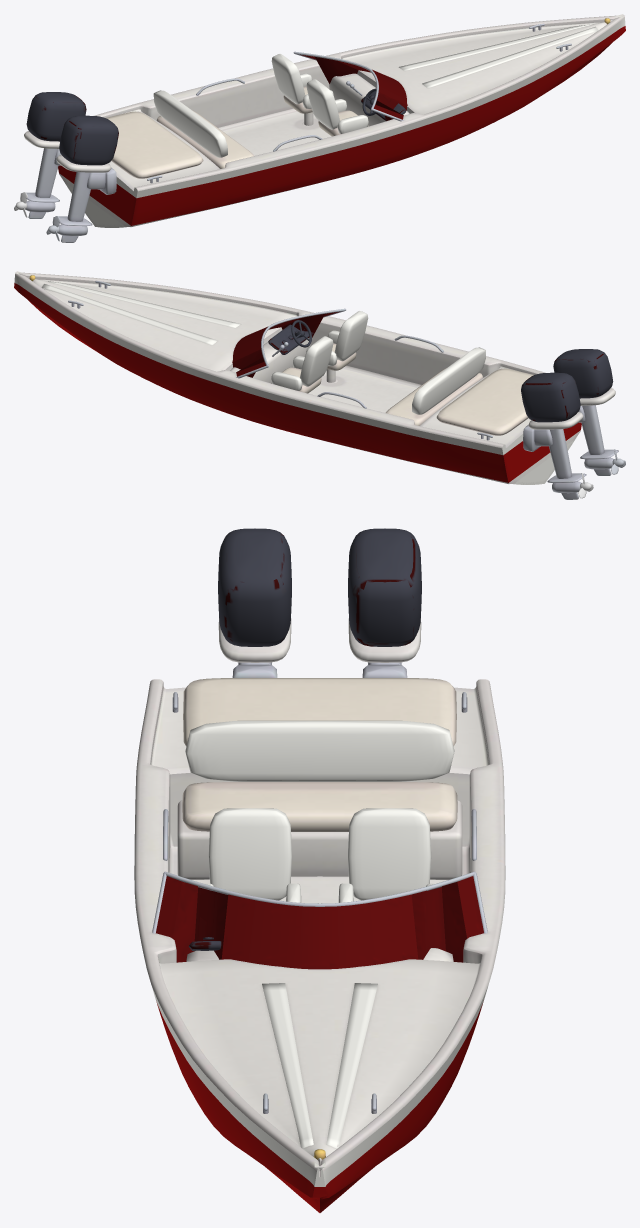
Rendered from lancha-triton-240-open-sport-2014.glb.
3 views of the same model, one above another, from view 1: azimuth 30°, elevation 25°; view 2: azimuth 150°, elevation 25°; view 3: azimuth 270°, elevation 25° (orthographic). The views are drawn at different scales.
Parts seen in each view (by area): view 1: speedboat_body; view 2: speedboat_body; view 3: speedboat_body.
Boxes of the visible parts, x1=… form: speedboat_body: x1=21, y1=14, x2=625, y2=242; speedboat_body: x1=14, y1=271, x2=618, y2=499; speedboat_body: x1=134, y1=528, x2=505, y2=1212.
Bounding box in the file's own units: 7.32 × 1.53 × 1.99.
3 materials, 1 textured.
